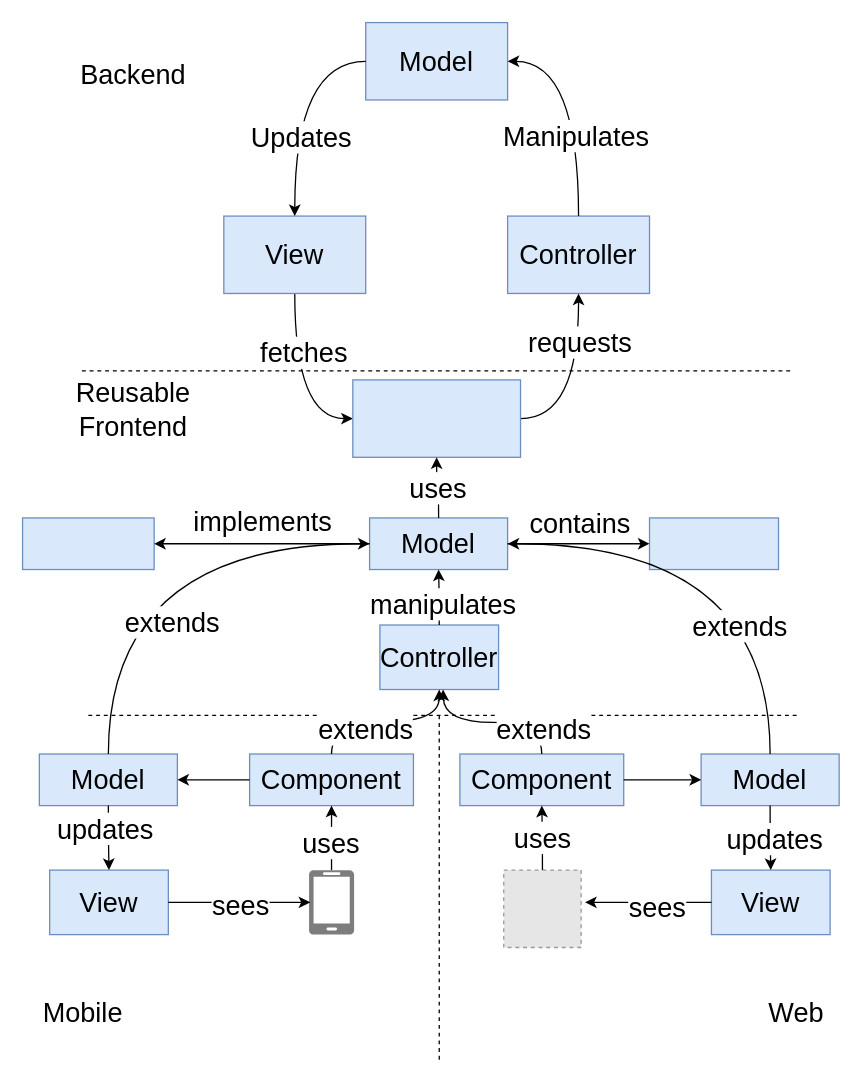
Image size: 862x1087. Some labels were removed from this diagram. Grey dashed boxes stand in for pictures. The shapes that lost their labels are listed below. From the top down, each one's centre as x and y in pixels, then its label:
(x=436, y=418): API_Service
(x=87, y=543): IModel
(x=713, y=543): POTO
